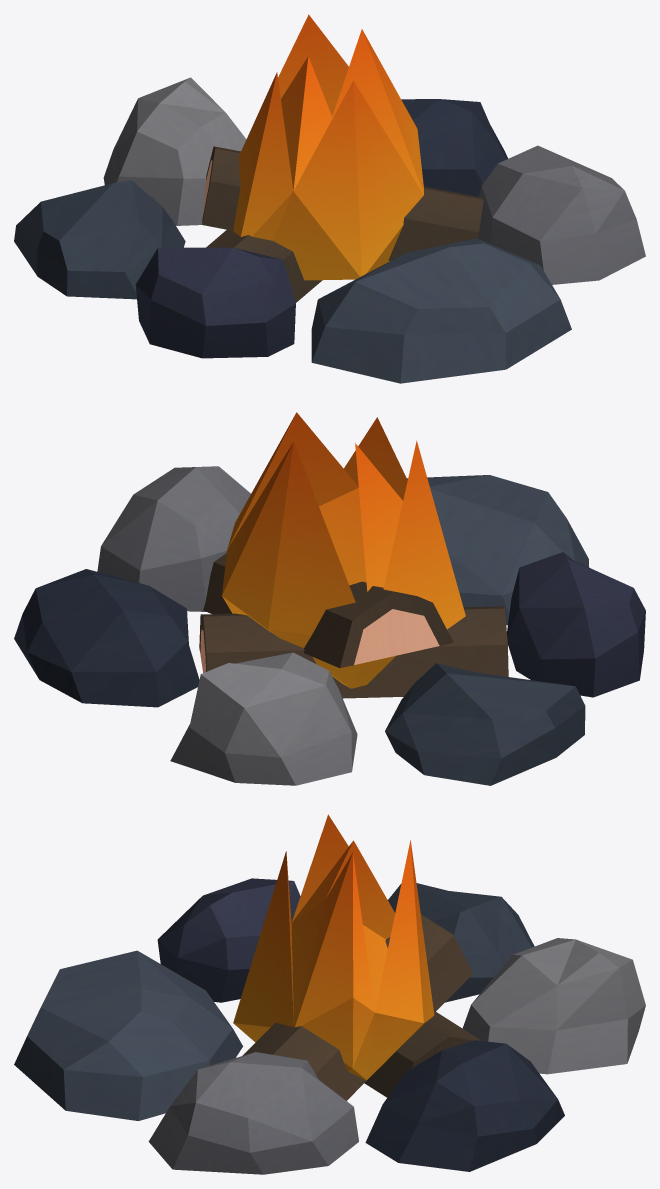
The model's file is CampFire.obj.
3 renders of one model, top to bottom at view 1: azimuth 30°, elevation 25°; view 2: azimuth 150°, elevation 25°; view 3: azimuth 270°, elevation 25°, orthographic. The views are drawn at different scales.
Visible parts, largest first — view 1: CampFire; view 2: CampFire; view 3: CampFire.
Boxes of the visible parts, x1,y1,x2,y2 form: CampFire: [14, 14, 645, 383]; CampFire: [14, 412, 645, 785]; CampFire: [14, 814, 645, 1174].
Size of the model in its own units: 1.16 by 0.5112 by 1.25.
